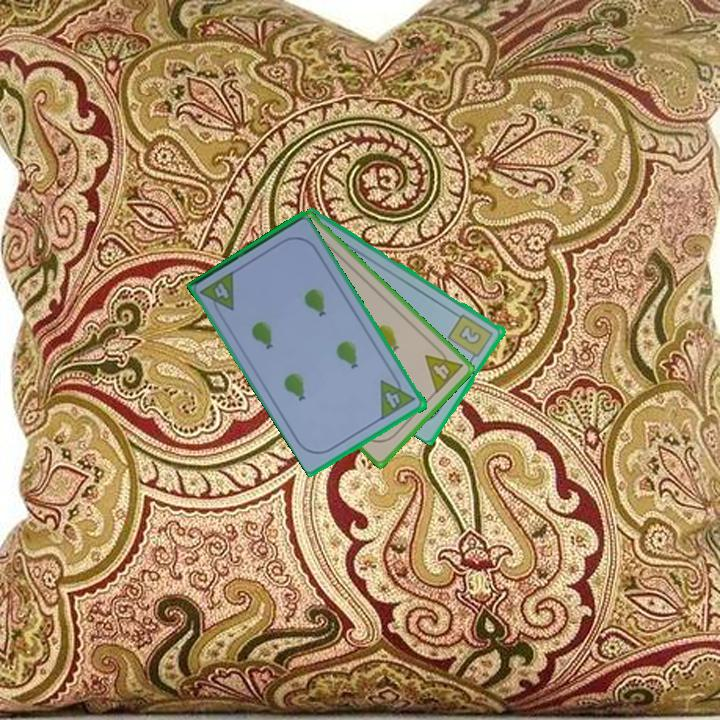2b: (445, 310, 497, 364)
4p: (421, 342, 466, 396), (377, 370, 419, 422), (197, 268, 238, 320)
